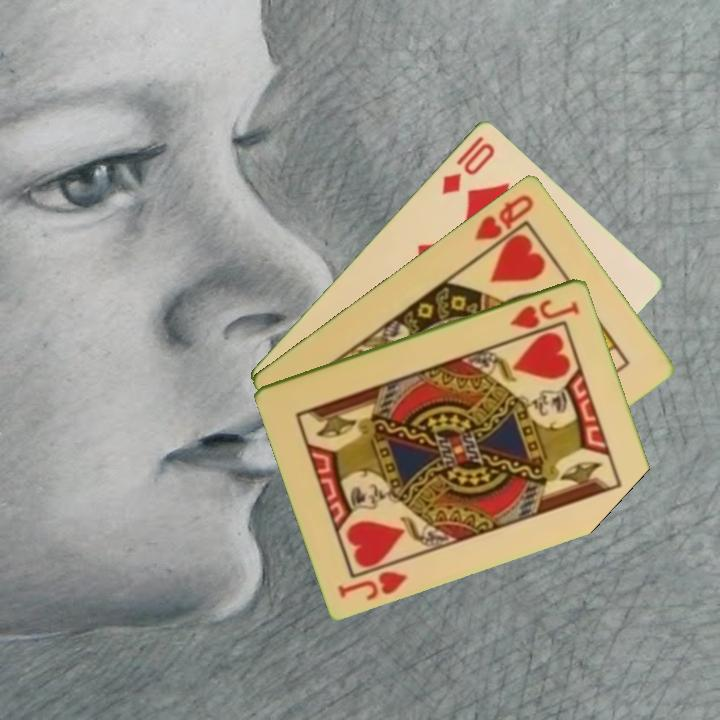10d: (438, 138, 498, 197)
Jh: (334, 556, 411, 603), (506, 295, 583, 332)
Qh: (471, 190, 537, 243)
